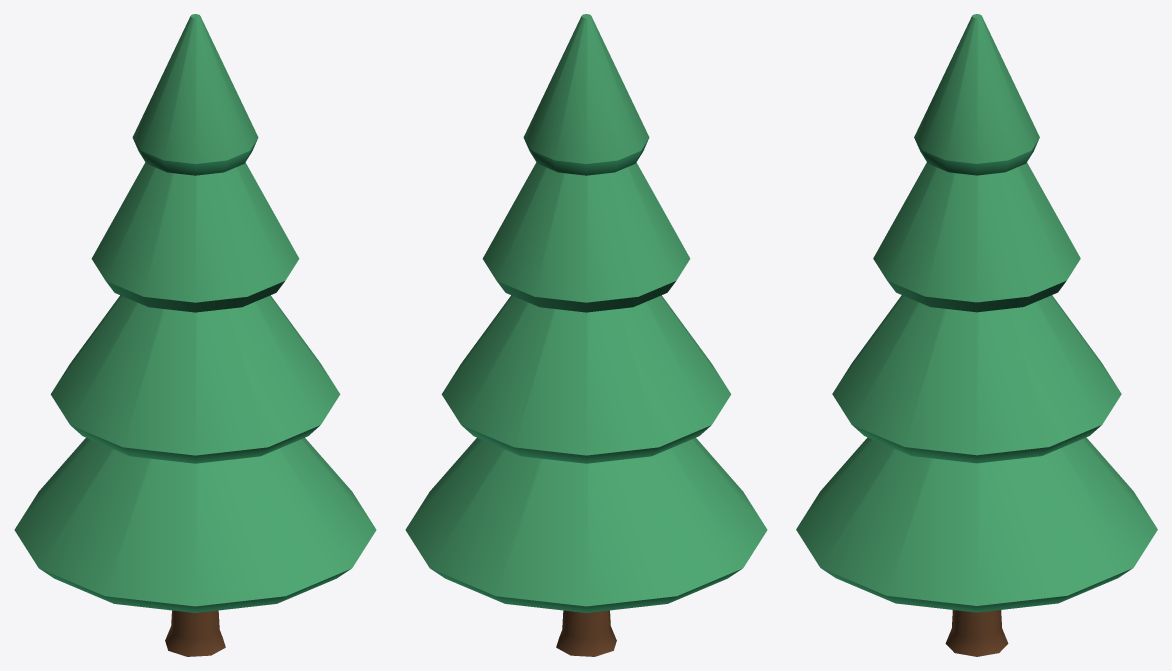
The model's file is mint-deco2.glb.
The picture shows the model from 3 angles, left to right: view 1: azimuth 30°, elevation 25°; view 2: azimuth 150°, elevation 25°; view 3: azimuth 270°, elevation 25°; orthographic projection.
Visible parts, largest first — view 1: mint-deco2; view 2: mint-deco2; view 3: mint-deco2.
Boxes of the visible parts, x1,y1,x2,y2 form: mint-deco2: (14,14,376,656); mint-deco2: (405,14,767,656); mint-deco2: (796,14,1157,656).
Size of the model in its own units: 2.3 by 4.4 by 2.3.
